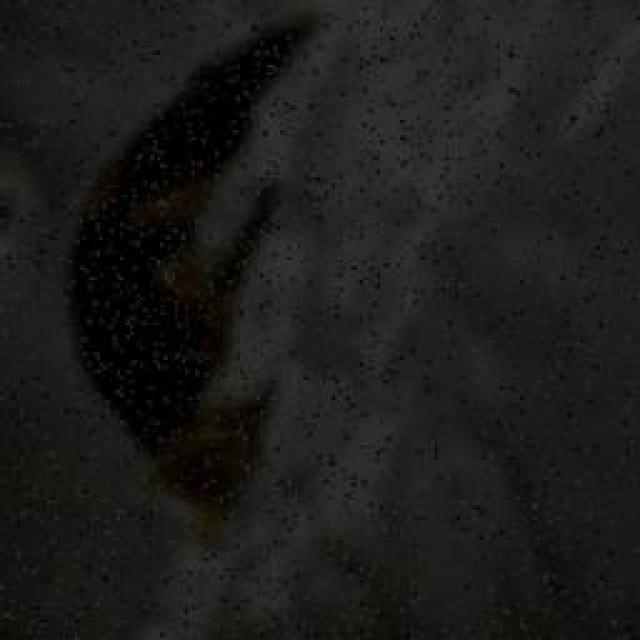Fox: (56, 13, 316, 514)
